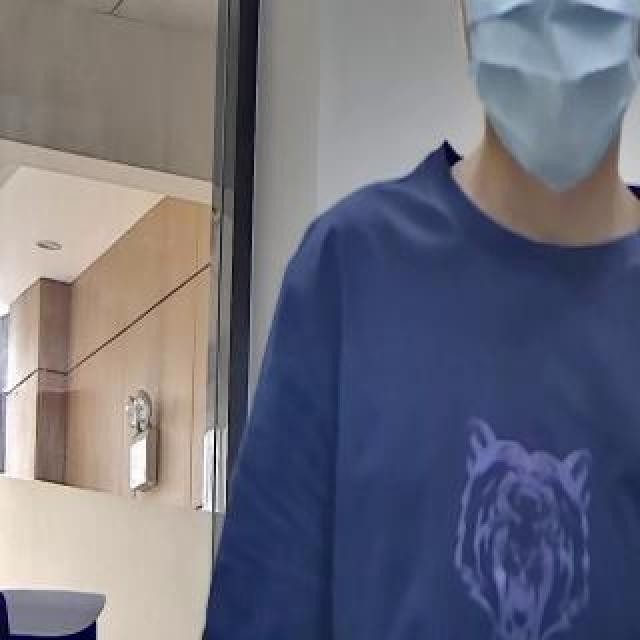Guns: (636, 0, 640, 508)
